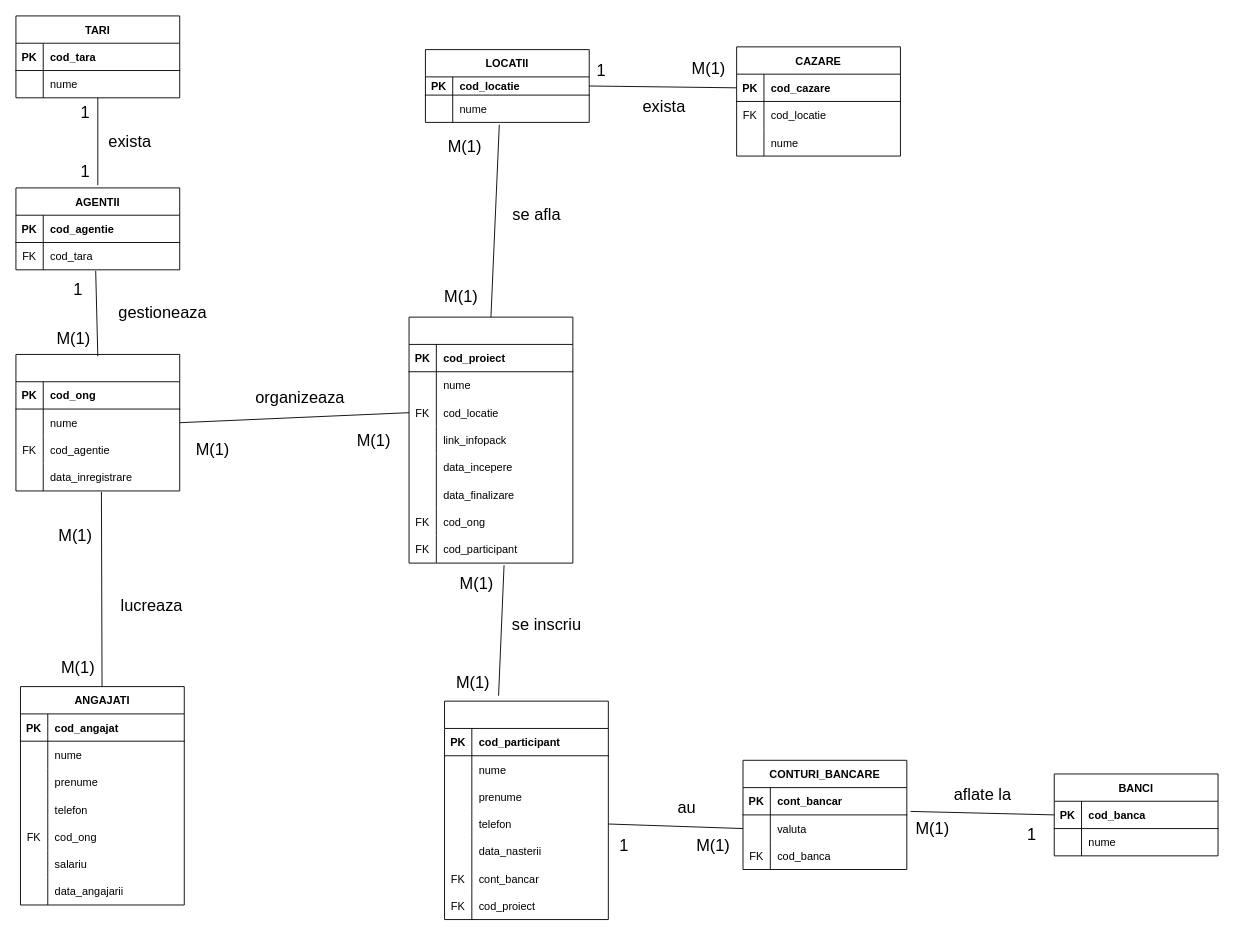
Image size: 1234x935. Some labels were removed from this diagram. The box of each missing label's shape, as (x1, y1, x2, y2) in pixels:
ORGANIZATII: (15, 354, 180, 491)
PARTICIPANTI: (444, 700, 608, 920)
PROIECTE: (408, 316, 573, 563)
